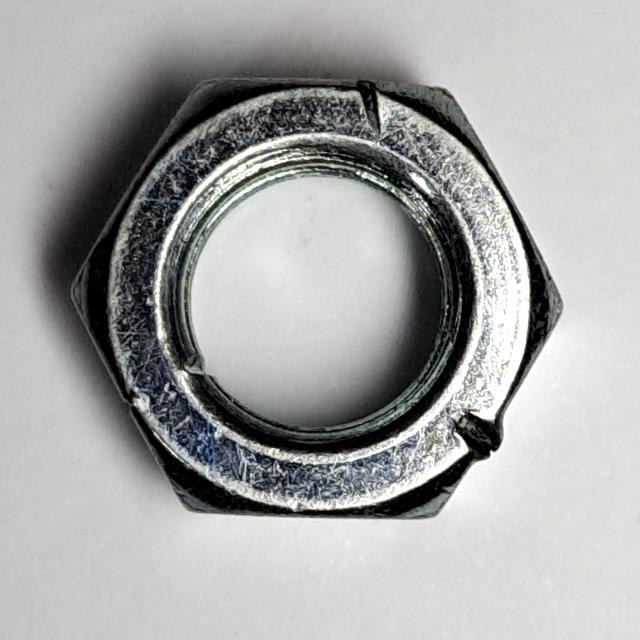Scratches: (51, 64, 570, 536)
